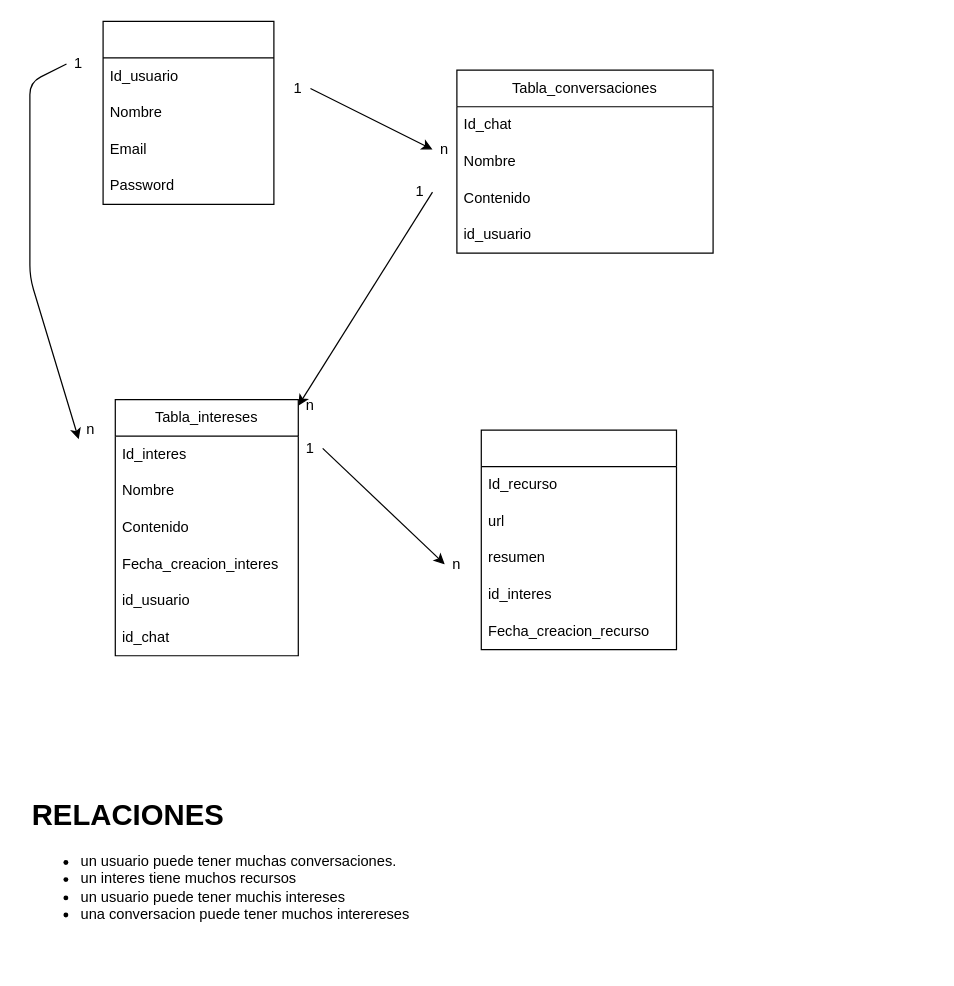
Image size: 954x986. Some labels were removed from this diagram. Here are the shapes that lost their labels. From the top down, the box of each, then its label:
(102, 20, 274, 204): Tabla_usuario
(480, 429, 676, 650): Tabla_recurso
